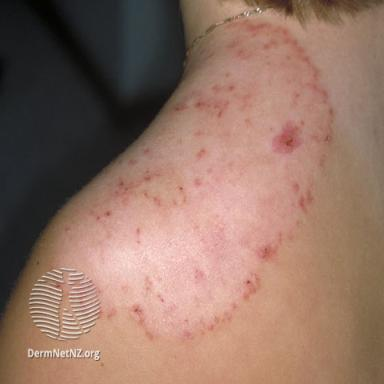Tinea-Corporis: (50, 19, 335, 342)
